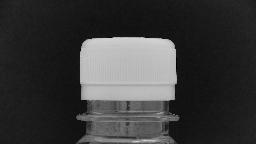Loose Cap: (72, 82, 182, 124)
